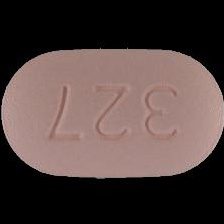43547-331: (0, 0, 224, 224)
